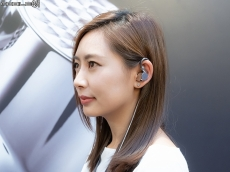earphone: (134, 60, 154, 88)
